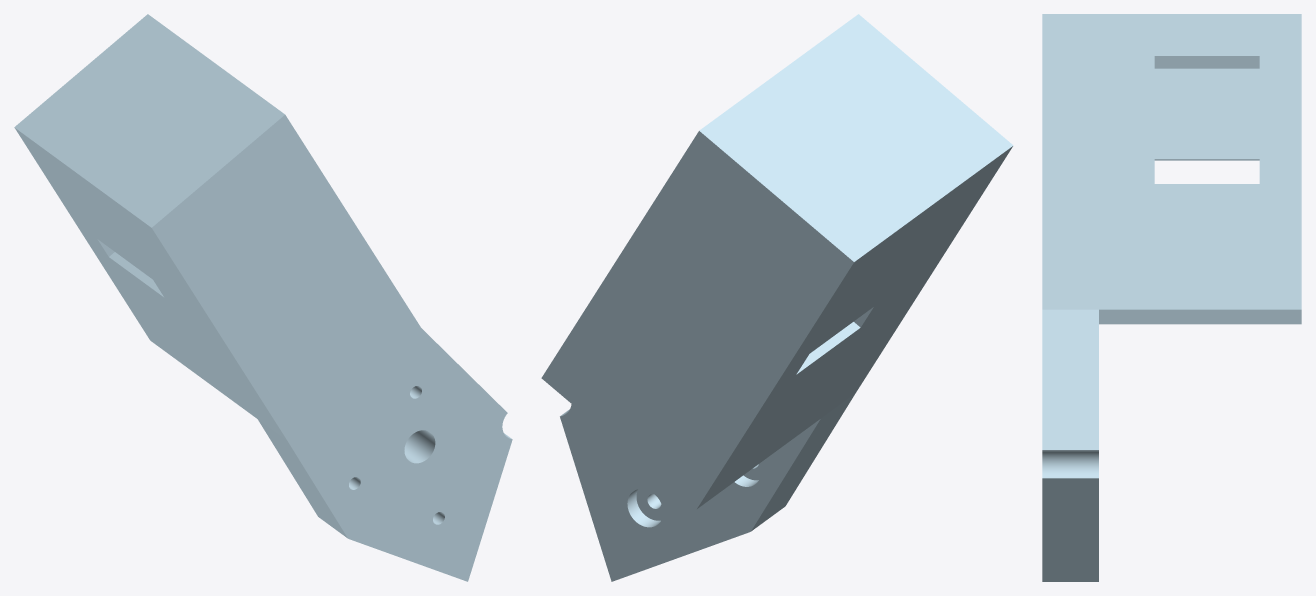
3 views of the same model, side by side, from view 1: azimuth 30°, elevation 25°; view 2: azimuth 150°, elevation 25°; view 3: azimuth 270°, elevation 25° (orthographic). The views are drawn at different scales.
Parts seen in each view (by area): view 1: mesh24, mesh17, mesh28, mesh13, mesh8; view 2: mesh16, mesh17, mesh28, mesh9, mesh13, mesh35; view 3: mesh32, mesh30, mesh14, mesh36, mesh11, mesh15, mesh10, mesh31.
Boxes of the visible parts, left/top/right/bottom form: mesh24: left=152, top=115, right=512, bottom=581; mesh17: left=14, top=14, right=284, bottom=227; mesh28: left=14, top=127, right=286, bottom=440; mesh13: left=258, top=419, right=347, bottom=538; mesh8: left=404, top=430, right=435, bottom=463; mesh16: left=541, top=131, right=853, bottom=509; mesh17: left=699, top=14, right=1013, bottom=261; mesh28: left=697, top=146, right=1012, bottom=508; mesh9: left=560, top=404, right=820, bottom=581; mesh13: left=751, top=393, right=855, bottom=531; mesh35: left=796, top=322, right=860, bottom=374; mesh32: left=1042, top=14, right=1301, bottom=309; mesh30: left=1154, top=68, right=1259, bottom=158; mesh14: left=1042, top=309, right=1098, bottom=449; mesh36: left=1154, top=184, right=1259, bottom=246; mesh11: left=1042, top=478, right=1098, bottom=581; mesh15: left=1099, top=309, right=1301, bottom=324; mesh10: left=1042, top=450, right=1098, bottom=478; mesh31: left=1154, top=56, right=1259, bottom=68.
Size of the model in its own units: 0.0936 by 0.1269 by 0.0617.
